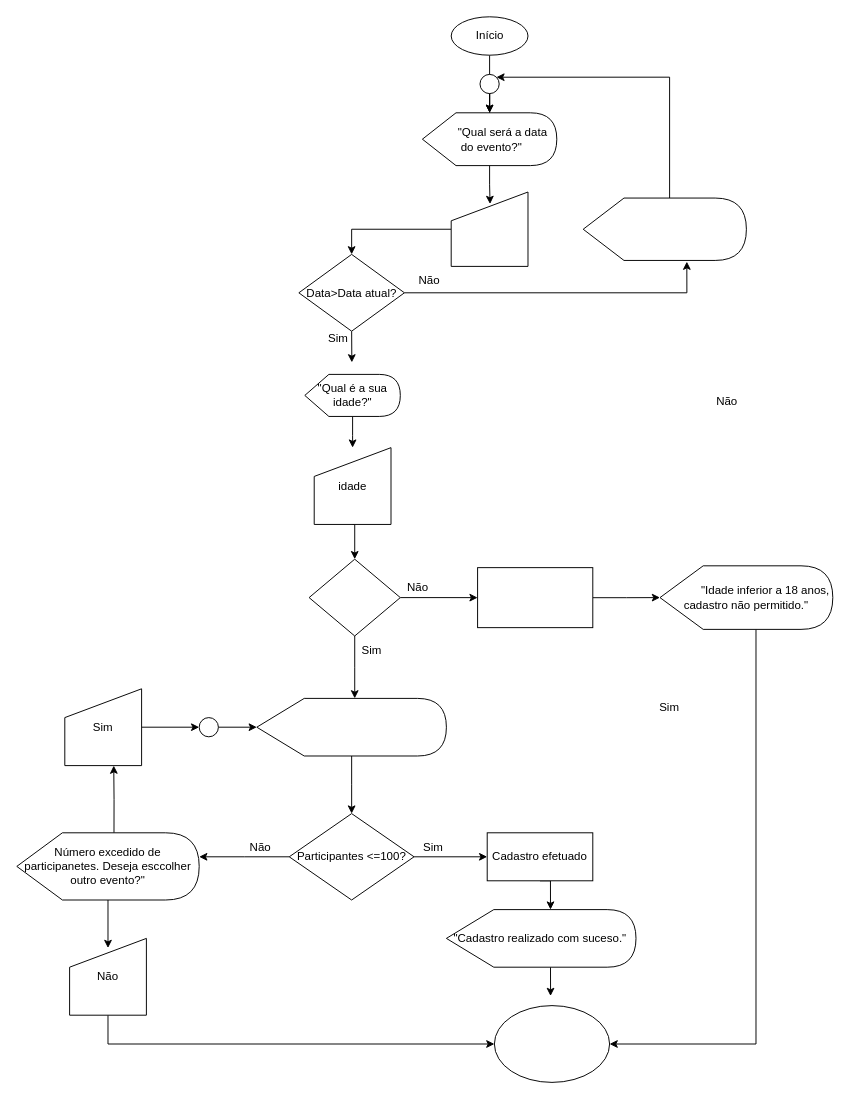
Some shapes in this 850 by 1099 pixel diagram are drawn without their labels. Here are the shapes that lost their labels. From the top down, the box of each, then its label:
(450, 191, 528, 266): Data
(582, 197, 746, 260): "Não é possível cadastrar. Data inválida."
(308, 558, 400, 636): Idade>18?
(477, 567, 593, 628): Cadastro não permitido.
(256, 697, 446, 756): "Lista de participantes e palestrantes por evento."
(493, 1005, 610, 1082): Fim
